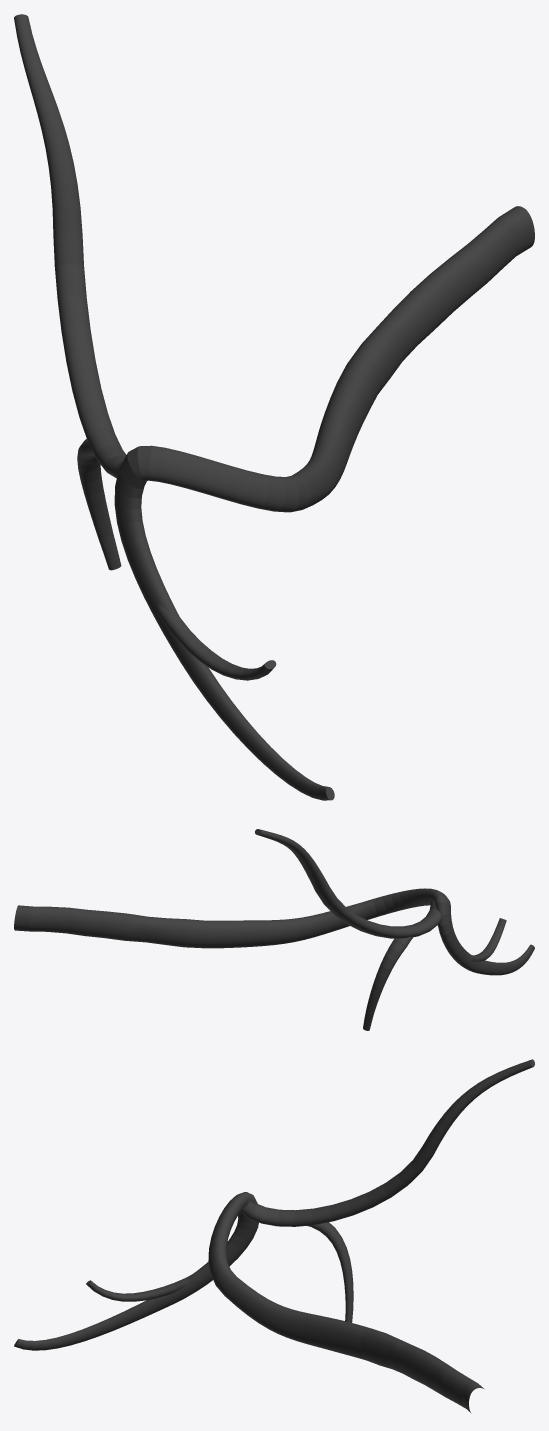
File: N_5_trigeminus_maxillary_zygomatic_zygomaticofacial.glb
The picture shows the model from 3 angles, top to bottom: view 1: azimuth 30°, elevation 25°; view 2: azimuth 150°, elevation 25°; view 3: azimuth 270°, elevation 25°; orthographic projection. The views are drawn at different scales.
Visible parts, largest first — view 1: N_5_trigeminus_maxillary_zygomatic_zygomaticofacial; view 2: N_5_trigeminus_maxillary_zygomatic_zygomaticofacial; view 3: N_5_trigeminus_maxillary_zygomatic_zygomaticofacial.
Boxes of the visible parts, x1,y1,x2,y2 form: N_5_trigeminus_maxillary_zygomatic_zygomaticofacial: (14, 14, 534, 800); N_5_trigeminus_maxillary_zygomatic_zygomaticofacial: (14, 829, 534, 1030); N_5_trigeminus_maxillary_zygomatic_zygomaticofacial: (14, 1059, 534, 1413).
Bounding box in the file's own units: 0.0167 × 0.0132 × 0.0196.
1 material, 1 textured.
